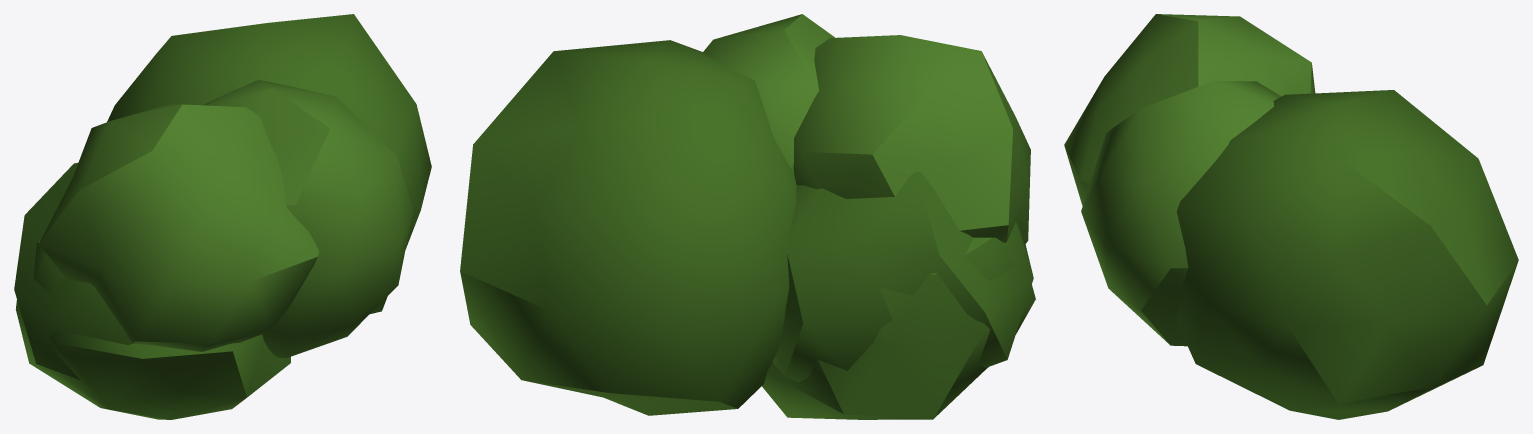
Rendered from shrub_a.fbx.
The picture shows the model from 3 angles, left to right: view 1: azimuth 30°, elevation 25°; view 2: azimuth 150°, elevation 25°; view 3: azimuth 270°, elevation 25°; orthographic projection. The views are drawn at different scales.
Parts seen in each view (by area): view 1: shrub_a; view 2: shrub_a; view 3: shrub_a.
Boxes of the visible parts, bbox=[...] form: shrub_a: bbox=[14, 14, 431, 419]; shrub_a: bbox=[460, 14, 1035, 419]; shrub_a: bbox=[1064, 14, 1518, 419].
Size of the model in its own units: 1.48 by 1.12 by 1.43.
